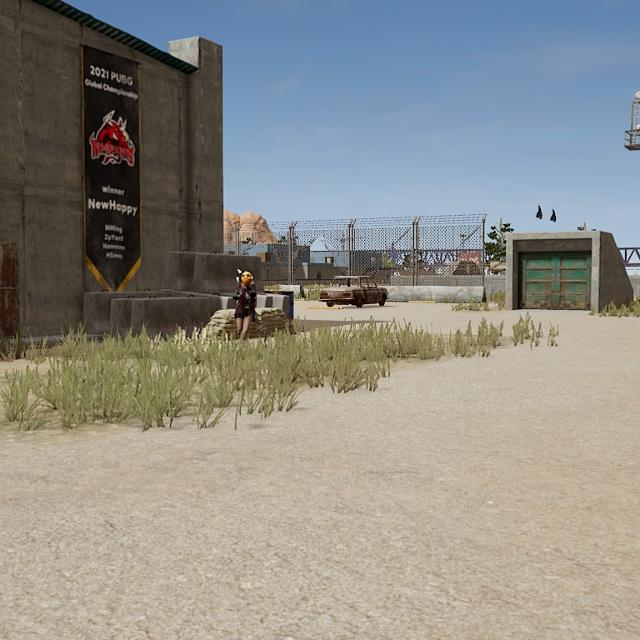head: (240, 271, 254, 287)
people: (233, 271, 258, 351)
